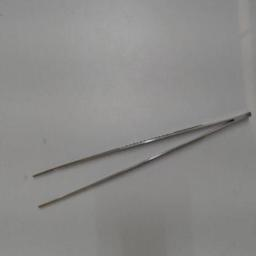DeBakey Dissector: (26, 96, 256, 220)
